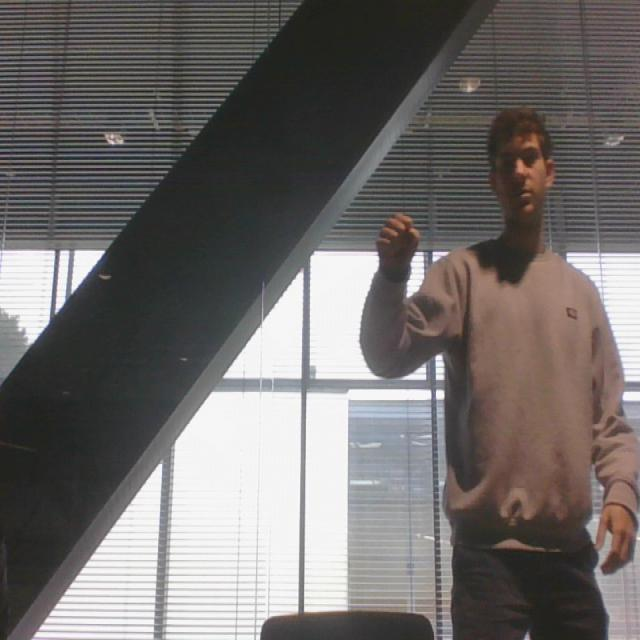stop: (371, 209, 427, 283)
